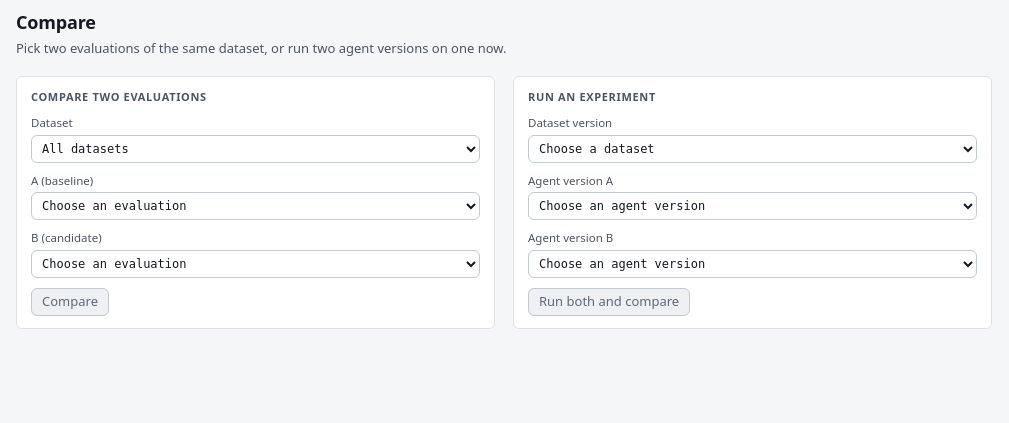
CompareView › says why the server refused to run an experiment, issue by issue
Select "research-assistant@1" in the dropdown labelled "Dataset version" at (752, 148), box [528,134,977,162]
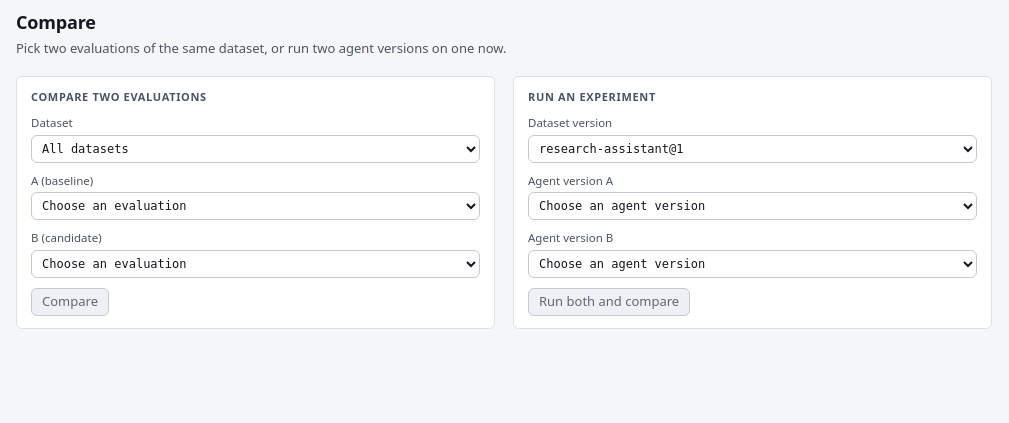
Select "research_assistant@v1" in the dropdown labelled "Agent version A" at (752, 206), box [528,192,977,220]
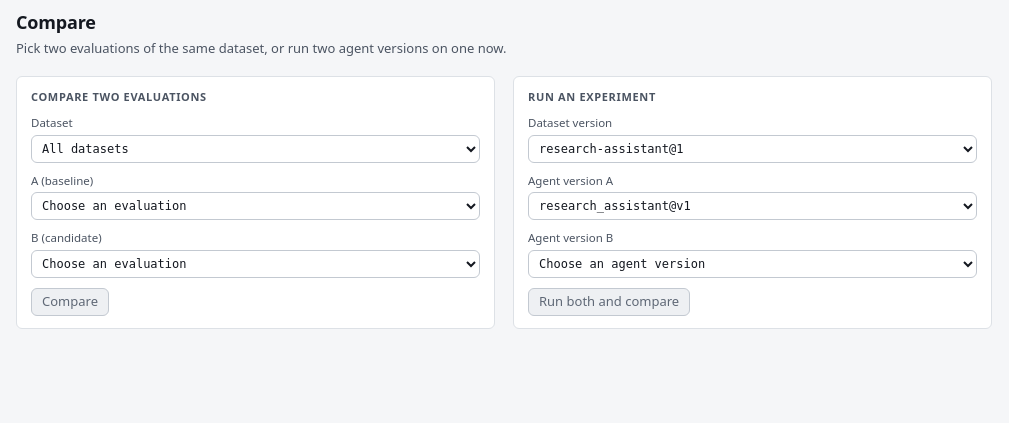
Select "research_assistant@v2" in the dropdown labelled "Agent version B" at (752, 264), box [528,250,977,278]
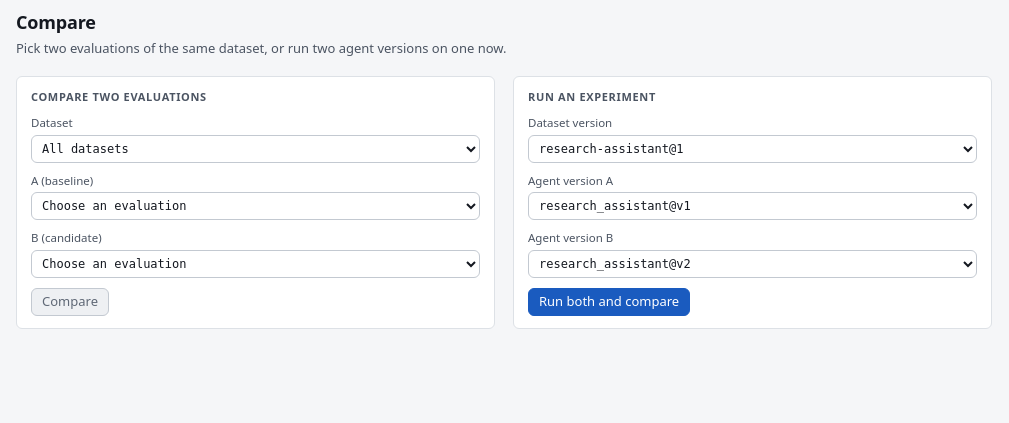
Click the button "Run both and compare".
click(609, 302)  # box [528,288,690,316]
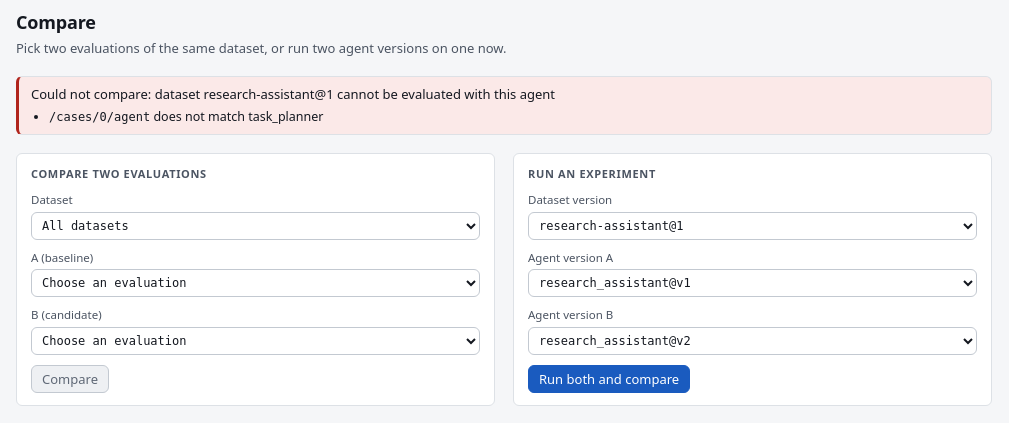
Check: the message shows "Could not compare: dataset research-assistant@1 cannot be evaluated with this agent", box [31,85,555,103]
Check: the list items read "/cases/0/agent does not match task_planner", in this order, box [49,108,324,125]
